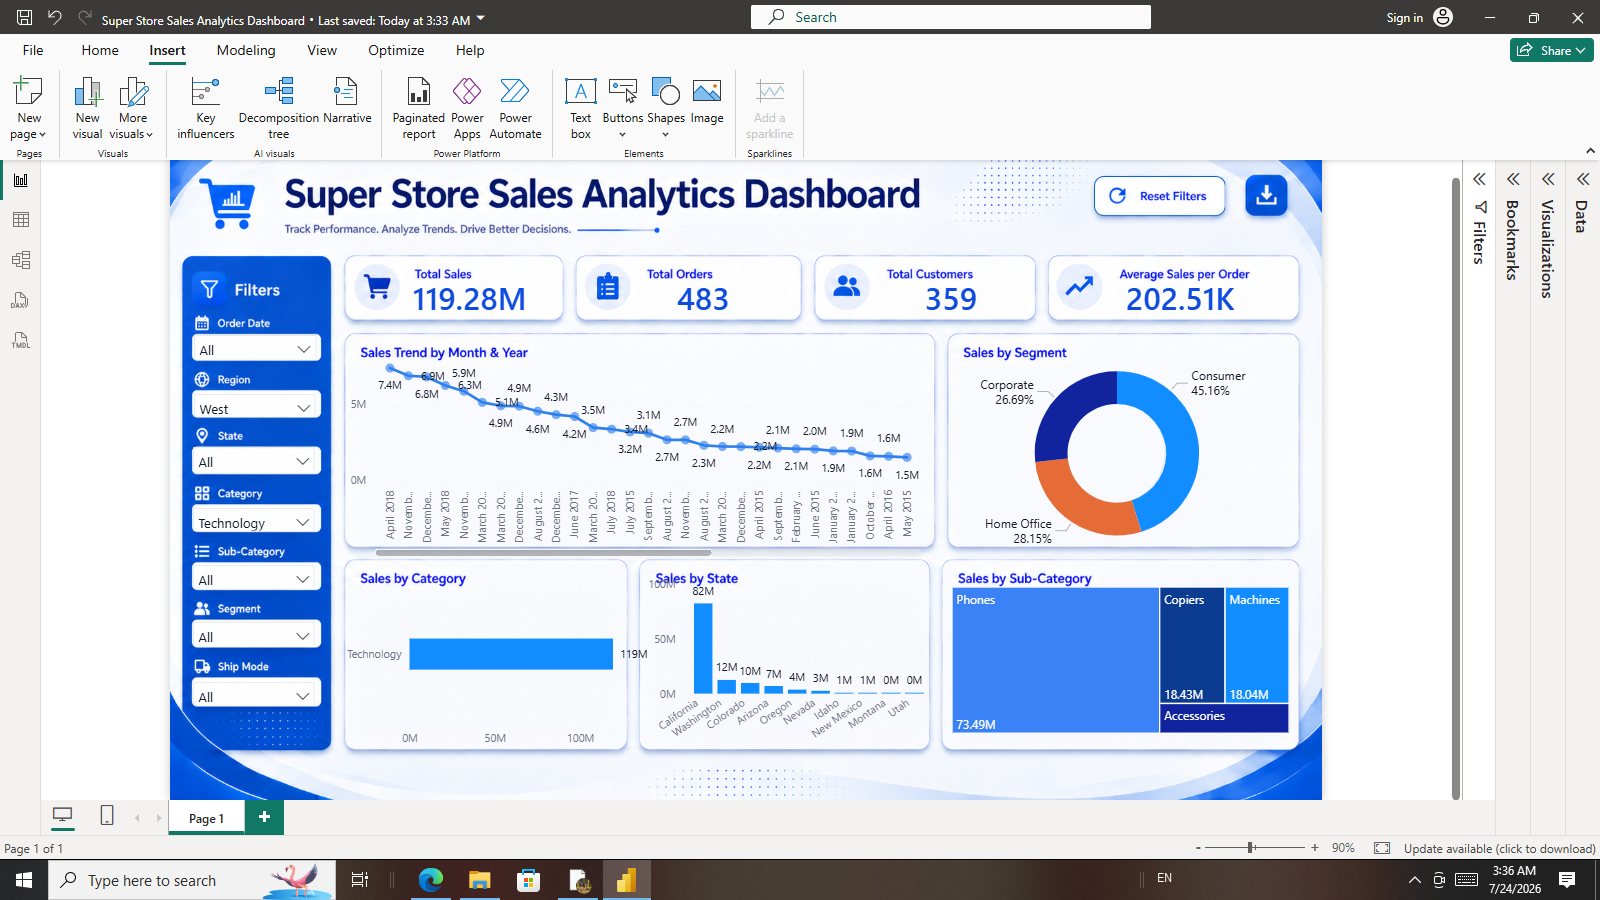

The page's visual inventory and layout, read from the dashboard file:
{"tool":"powerbi","page":{"name":"Page 1","canvas":[1280,720],"ordinal":0},"visuals":[{"type":"cardVisual","fields":{"Data":["Superstore_Sales_Dataset.Total Sales"]},"box":[241.6,119.5,199.2,79.7],"z":0},{"type":"cardVisual","fields":{"Data":["Superstore_Sales_Dataset.Total Orders"]},"box":[534.6,119.5,164.5,79.7],"z":1000},{"type":"cardVisual","fields":{"Data":["Superstore_Sales_Dataset.Total Customers"]},"box":[809.6,119.5,164.5,79.7],"z":2000},{"type":"cardVisual","fields":{"Data":["Superstore_Sales_Dataset.Average Sales"]},"box":[1033.3,119.5,194.1,79.7],"z":3000},{"type":"lineChart","fields":{"Category":["Superstore_Sales_Dataset.Month & Year Order"],"Y":["Sum(Superstore_Sales_Dataset.Sales)"]},"box":[190.2,210.8,655.4,248],"z":4000},{"type":"donutChart","fields":{"Y":["Sum(Superstore_Sales_Dataset.Sales)"],"Category":["Superstore_Sales_Dataset.Segment"]},"box":[876.5,196.6,350.8,276.3],"z":5000},{"type":"clusteredBarChart","fields":{"Category":["Superstore_Sales_Dataset.Category"],"Y":["Sum(Superstore_Sales_Dataset.Sales)"]},"box":[181.2,458.8,383,215.9],"z":6000},{"type":"clusteredColumnChart","fields":{"Category":["Superstore_Sales_Dataset.State"],"Y":["Sum(Superstore_Sales_Dataset.Sales)"]},"box":[517.9,458.8,340.6,215.9],"z":7000},{"type":"treemap","fields":{"Group":["Superstore_Sales_Dataset.Sub-Category"],"Values":["Sum(Superstore_Sales_Dataset.Sales)"]},"box":[858.5,472.9,394.5,182.5],"z":8000},{"type":"slicer","fields":{"Values":["Superstore_Sales_Dataset.Order Date"]},"box":[16.1,192.8,155.6,35],"z":9000},{"type":"slicer","fields":{"Values":["Superstore_Sales_Dataset.Region"]},"box":[16.2,259.2,155.4,34.6],"z":10000},{"type":"slicer","fields":{"Values":["Superstore_Sales_Dataset.State"]},"box":[16,317.3,155.3,34.7],"z":11000},{"type":"slicer","fields":{"Values":["Superstore_Sales_Dataset.Category"]},"box":[16,385.3,155.3,34.7],"z":12000},{"type":"slicer","fields":{"Values":["Superstore_Sales_Dataset.Sub-Category"]},"box":[16,448.7,155.3,34.7],"z":13000},{"type":"slicer","fields":{"Values":["Superstore_Sales_Dataset.Segment"]},"box":[16,512,155.3,34.7],"z":14000},{"type":"slicer","fields":{"Values":["Superstore_Sales_Dataset.Ship Mode"]},"box":[16,578.7,155.3,34.7],"z":15000},{"type":"shape","box":[1026.9,26.2,146.2,44.6],"z":16000}]}

Visuals, with their boxes on the page's 1280x720 design canvas (x1, y1, x2, y2). These are canvas units, not pixel positions in the 1600x900 screenshot, which may show the page scaled, cropped or inside an application window:
cardVisual - Superstore_Sales_Dataset.Total Sales: (x1=242, y1=120, x2=441, y2=199)
cardVisual - Superstore_Sales_Dataset.Total Orders: (x1=535, y1=120, x2=699, y2=199)
cardVisual - Superstore_Sales_Dataset.Total Customers: (x1=810, y1=120, x2=974, y2=199)
cardVisual - Superstore_Sales_Dataset.Average Sales: (x1=1033, y1=120, x2=1227, y2=199)
lineChart - Superstore_Sales_Dataset.Month & Year Order x Sum(Superstore_Sales_Dataset.Sales): (x1=190, y1=211, x2=846, y2=459)
donutChart - Sum(Superstore_Sales_Dataset.Sales) x Superstore_Sales_Dataset.Segment: (x1=876, y1=197, x2=1227, y2=473)
clusteredBarChart - Superstore_Sales_Dataset.Category x Sum(Superstore_Sales_Dataset.Sales): (x1=181, y1=459, x2=564, y2=675)
clusteredColumnChart - Superstore_Sales_Dataset.State x Sum(Superstore_Sales_Dataset.Sales): (x1=518, y1=459, x2=858, y2=675)
treemap - Superstore_Sales_Dataset.Sub-Category x Sum(Superstore_Sales_Dataset.Sales): (x1=858, y1=473, x2=1253, y2=655)
slicer - Superstore_Sales_Dataset.Order Date: (x1=16, y1=193, x2=172, y2=228)
slicer - Superstore_Sales_Dataset.Region: (x1=16, y1=259, x2=172, y2=294)
slicer - Superstore_Sales_Dataset.State: (x1=16, y1=317, x2=171, y2=352)
slicer - Superstore_Sales_Dataset.Category: (x1=16, y1=385, x2=171, y2=420)
slicer - Superstore_Sales_Dataset.Sub-Category: (x1=16, y1=449, x2=171, y2=483)
slicer - Superstore_Sales_Dataset.Segment: (x1=16, y1=512, x2=171, y2=547)
slicer - Superstore_Sales_Dataset.Ship Mode: (x1=16, y1=579, x2=171, y2=613)
shape: (x1=1027, y1=26, x2=1173, y2=71)
